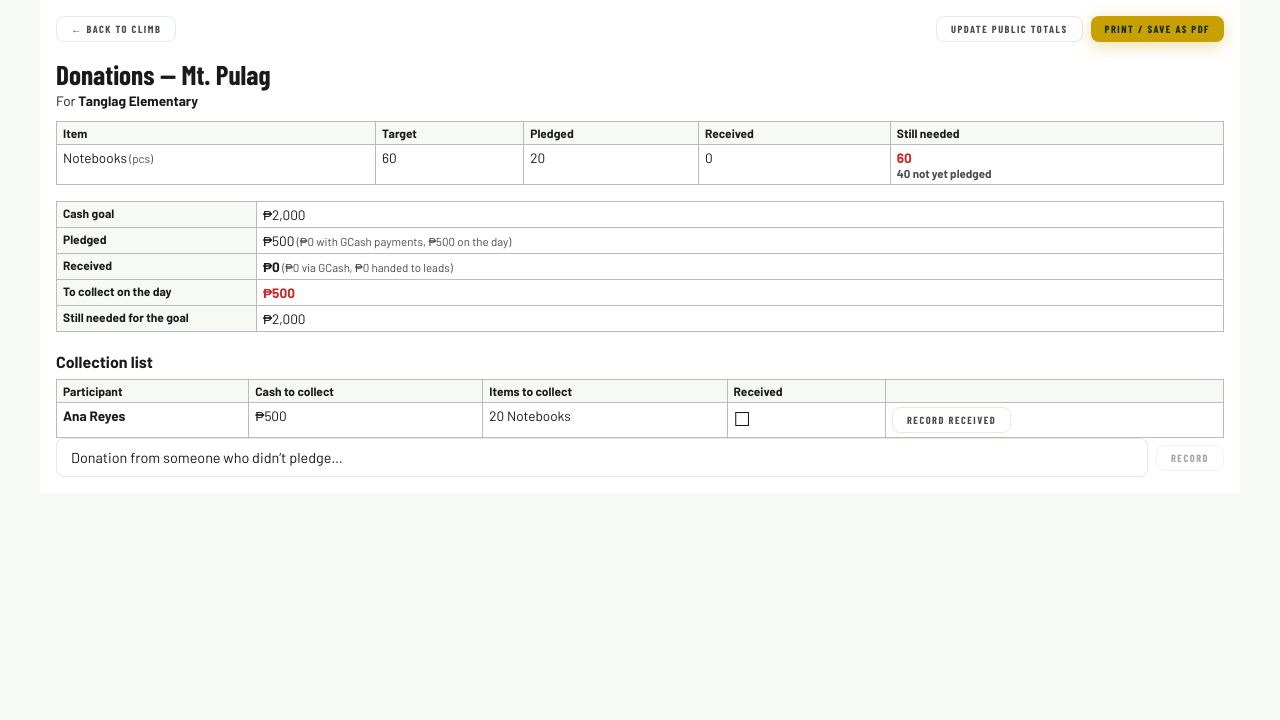
Climb donations page › records what a person handed over, item by item, and republishes totals
This screenshot has width=1280, height=720.
Click the button "Record received": (952, 420) [892, 407, 1011, 433]
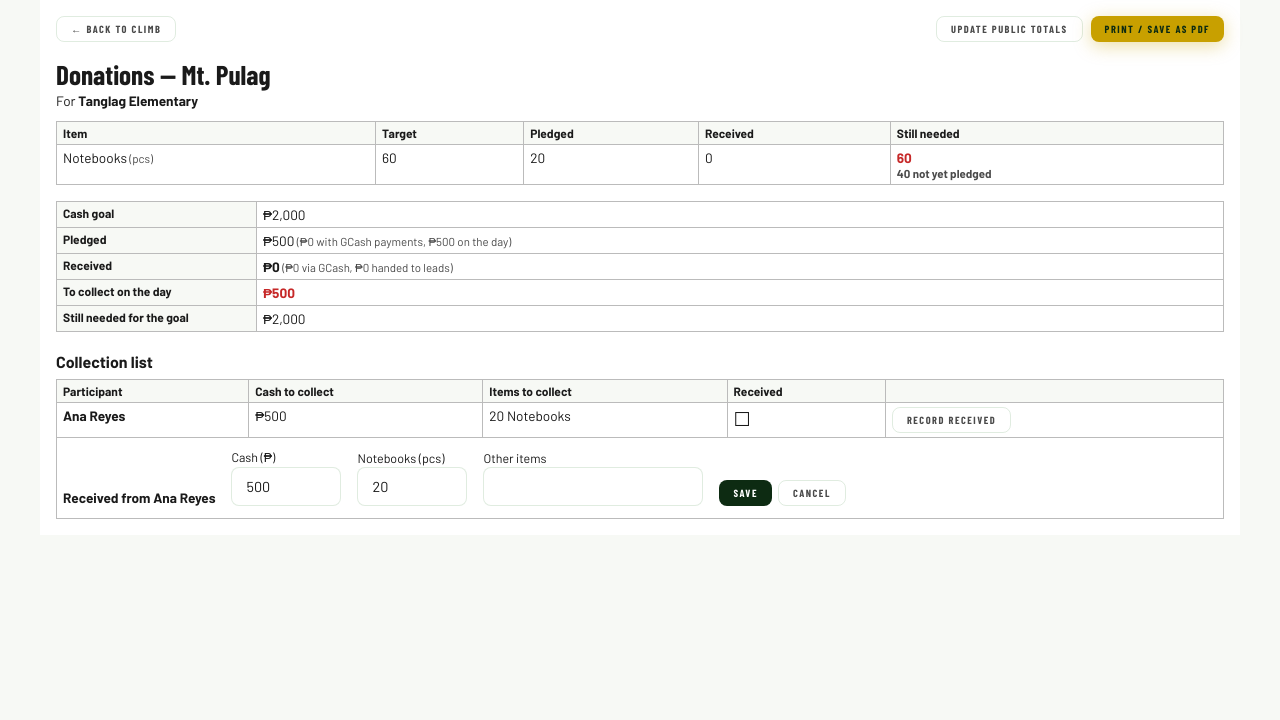
Replace the text in the number field named "Notebooks received" with "18": (412, 486) [358, 467, 468, 506]
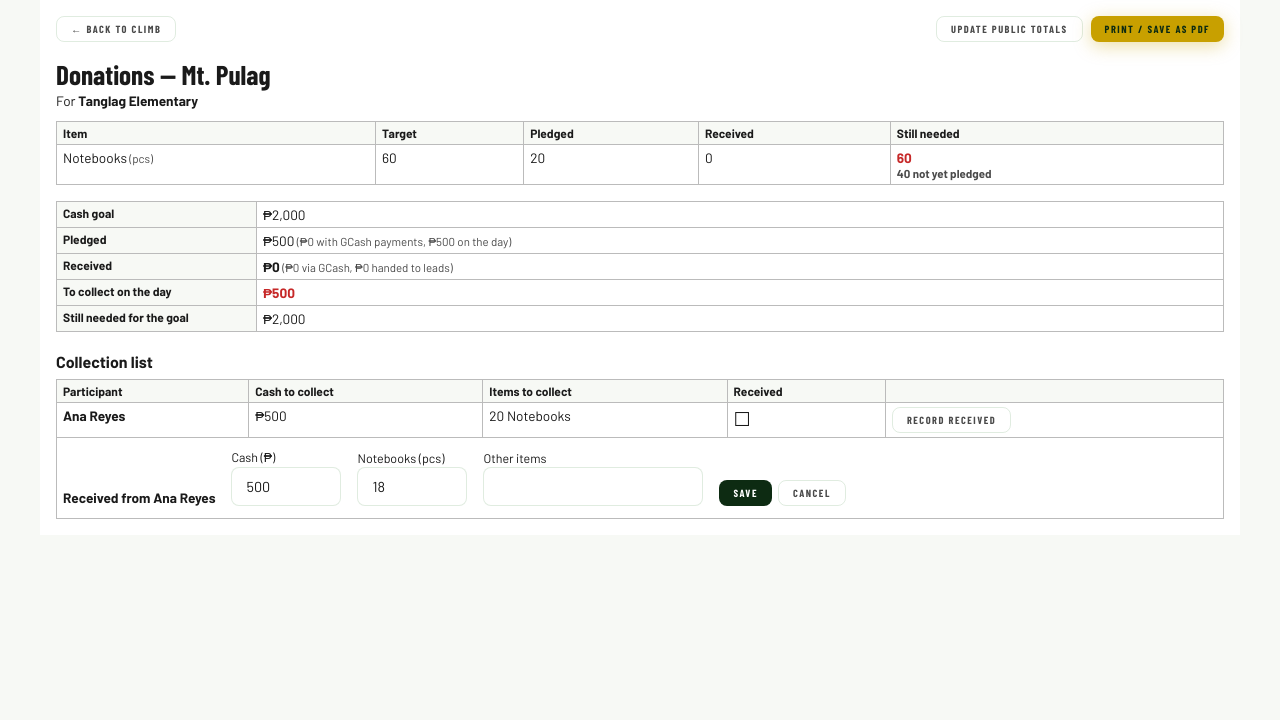
Click the button "Save": (746, 493) [720, 480, 772, 506]
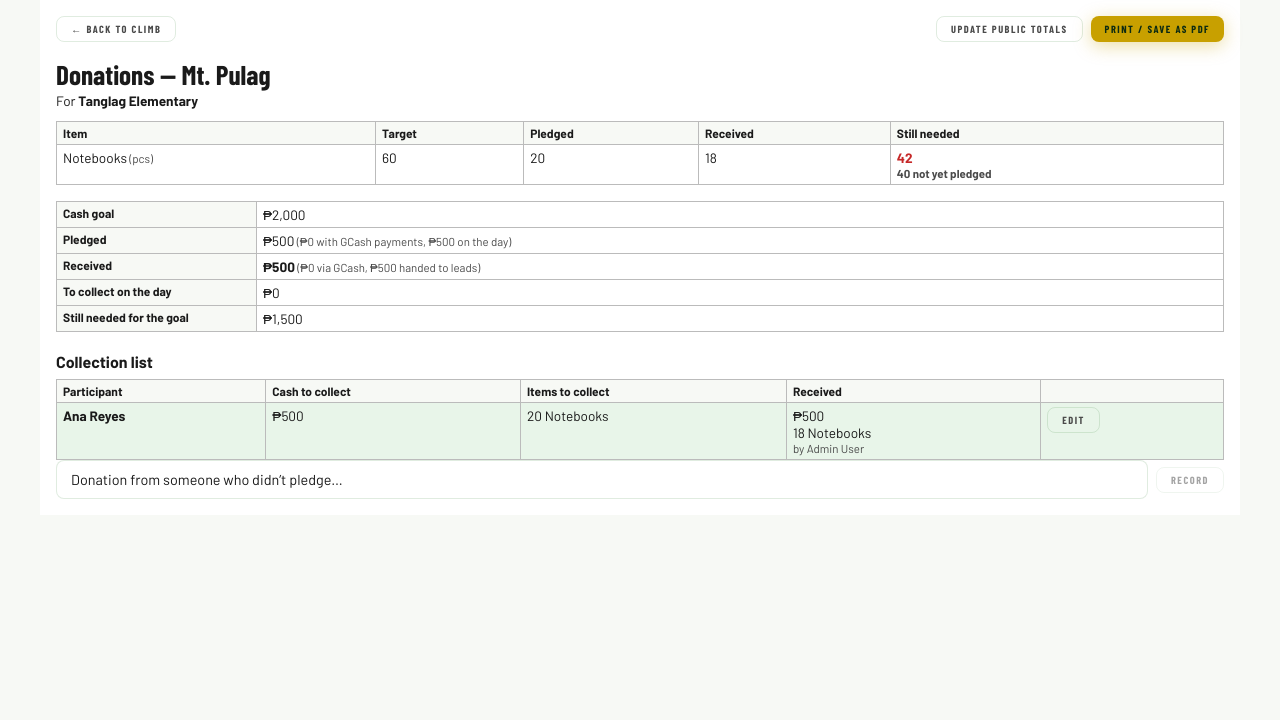
Check: the text "by Admin User" is shown, box [793, 441, 864, 455]
